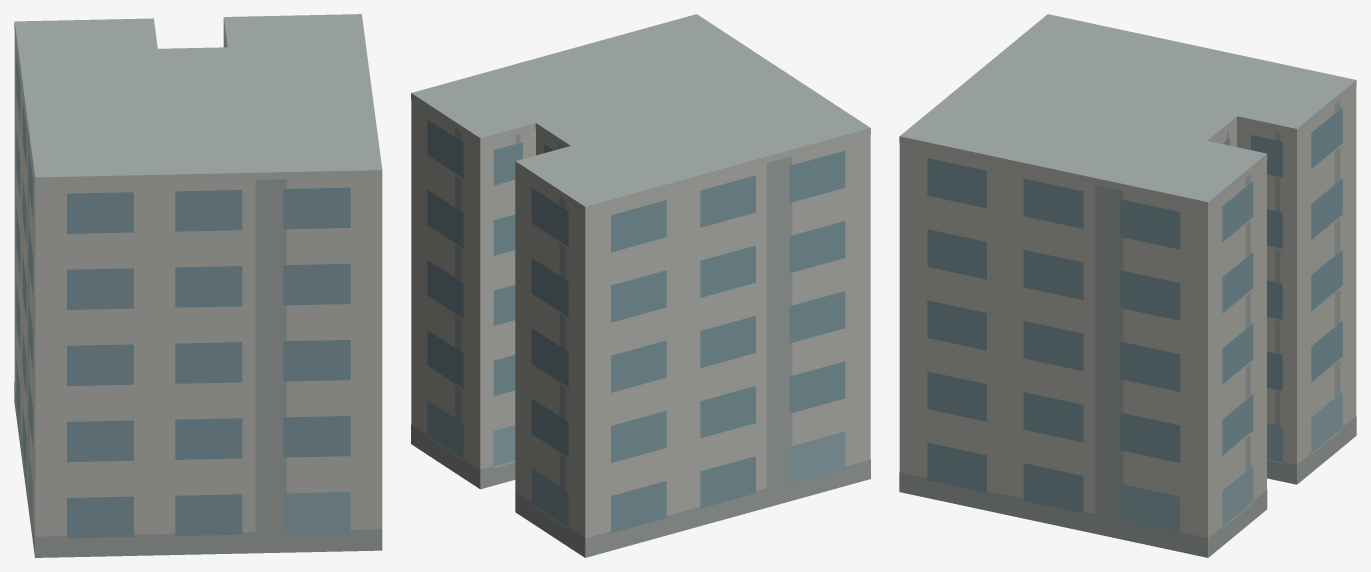
The model's file is survey-upis-32489790.glb.
3 views of the same model, side by side, from view 1: azimuth 30°, elevation 25°; view 2: azimuth 150°, elevation 25°; view 3: azimuth 270°, elevation 25° (orthographic). The views are drawn at different scales.
Visible parts, largest first — view 1: survey-upis-32489790.tmp; view 2: survey-upis-32489790.tmp; view 3: survey-upis-32489790.tmp.
Part boxes in pixels (box(x1,y1,x2,y2)): survey-upis-32489790.tmp: box(14, 14, 382, 557); survey-upis-32489790.tmp: box(411, 14, 870, 557); survey-upis-32489790.tmp: box(899, 14, 1356, 557).
Size of the model in its own units: 14.76 by 13 by 15.14.
